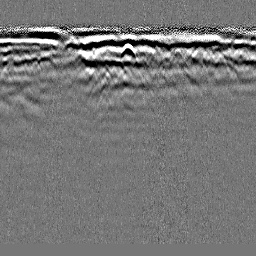cavity: (119, 41, 136, 61)
